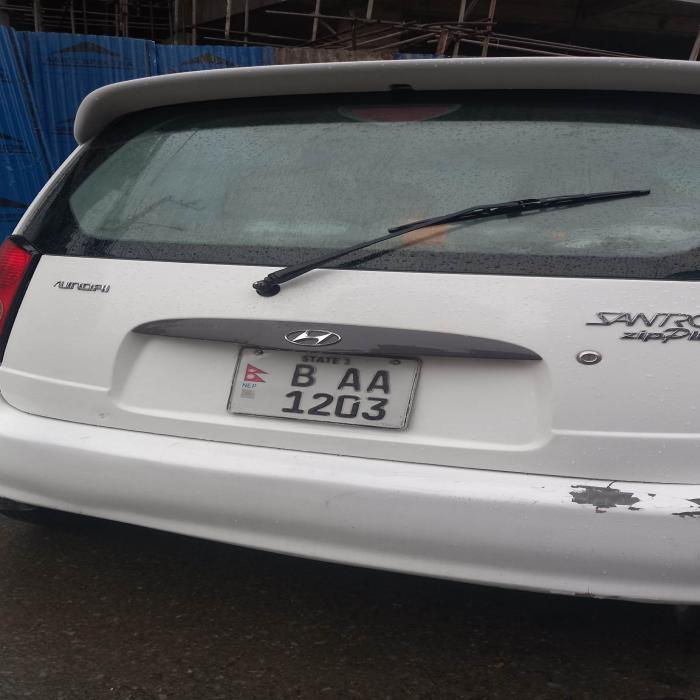number_plate: (239, 347, 403, 424)
